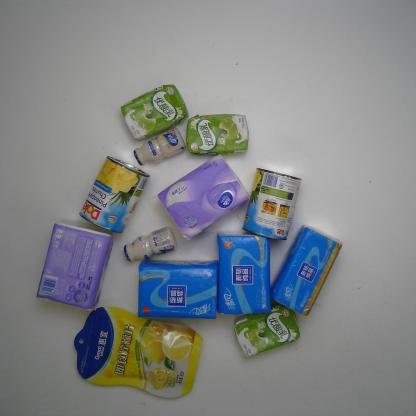Canned Food: (76, 156, 152, 236), (238, 167, 304, 247)
Dried Fruit: (71, 304, 206, 401)
Milk: (117, 81, 187, 140), (232, 303, 303, 360), (184, 113, 250, 156), (121, 224, 177, 266), (132, 126, 186, 168)
Tissue: (153, 157, 251, 241), (35, 216, 116, 314), (266, 223, 344, 317), (136, 256, 222, 323), (212, 229, 270, 316)
